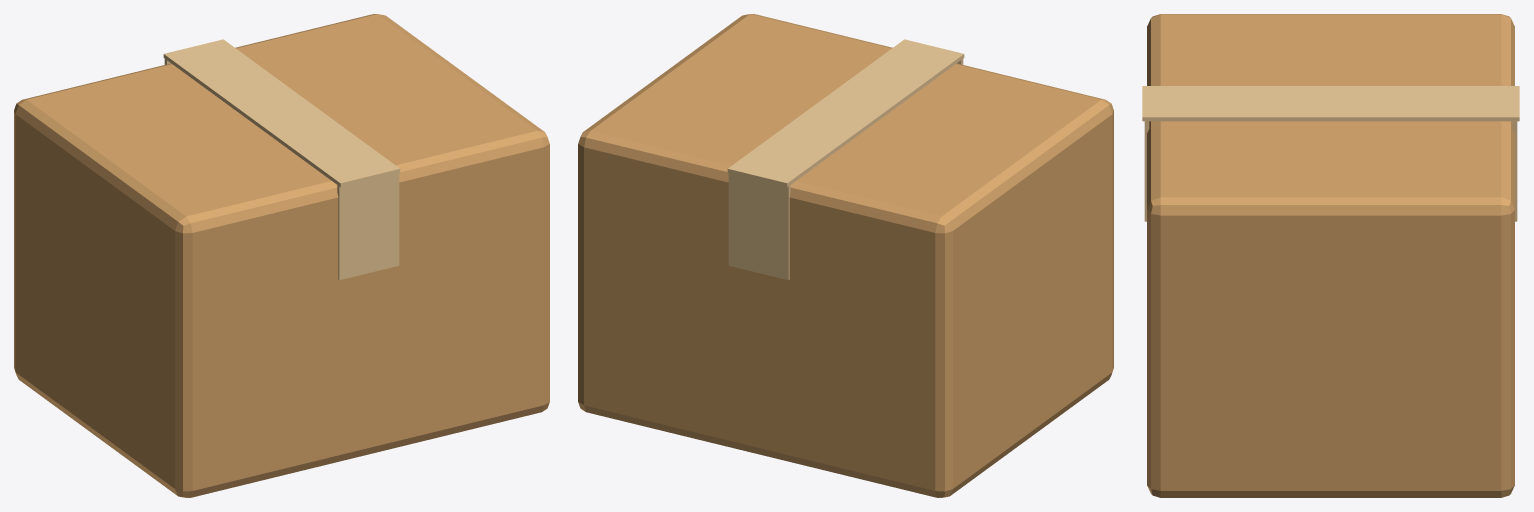
The model's file is box_closed.glb.
3 views of the same model, side by side, from view 1: azimuth 30°, elevation 25°; view 2: azimuth 150°, elevation 25°; view 3: azimuth 270°, elevation 25° (orthographic). The views are drawn at different scales.
Visible parts, largest first — view 1: box_closed; view 2: box_closed; view 3: box_closed.
Boxes of the visible parts, <box> form: box_closed: <box>14,14,549,497</box>; box_closed: <box>578,14,1113,497</box>; box_closed: <box>1142,14,1519,497</box>.
Size of the model in its own units: 0.5 by 0.365 by 0.41.
